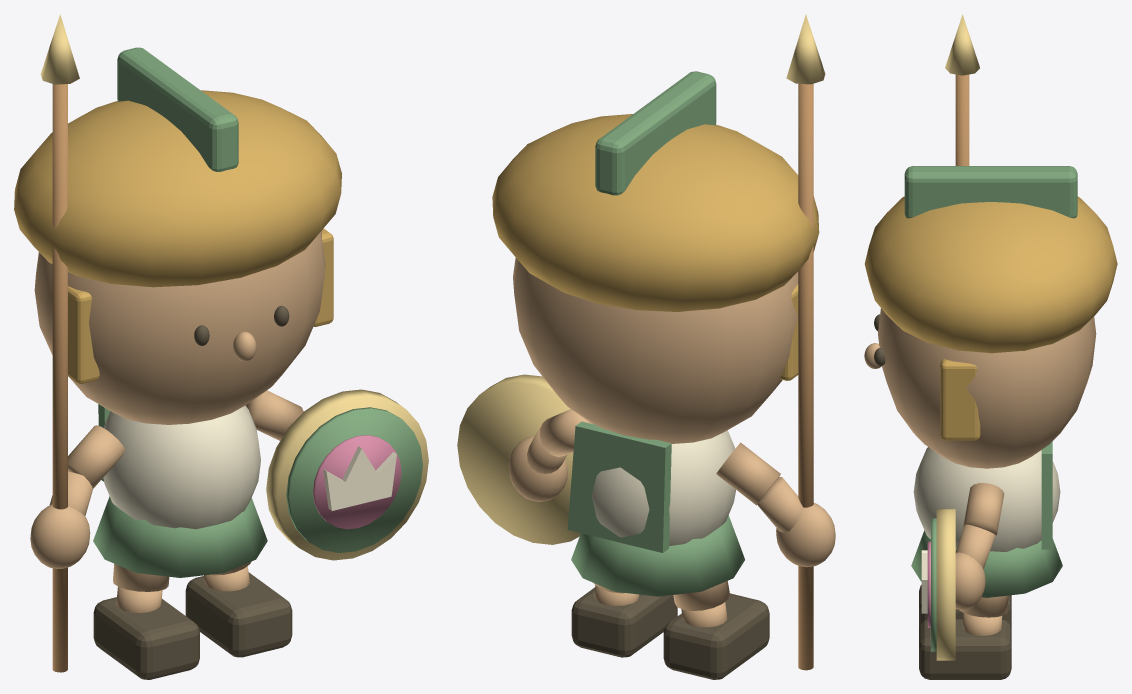
File: bighead.glb
3 views of the same model, side by side, from view 1: azimuth 30°, elevation 25°; view 2: azimuth 150°, elevation 25°; view 3: azimuth 270°, elevation 25° (orthographic). The views are drawn at different scales.
Parts seen in each view (by area): view 1: helmet.001, head.001, body.001, shield_face.001, skirt.001, spear.001, crest.001, foot.-1.001, foot.002, shield.001, badge.001, hand.-1.001 (+10 smaller); view 2: helmet.001, head.001, shield.001, body.001, skirt.001, cape.001, spear.001, crest.001, foot.-1.001, foot.002, hand.-1.001, upper_arm.-1.001 (+9 smaller); view 3: helmet.001, head.001, body.001, crest.001, foot.002, skirt.001, shield.001, cheek.002, upper_arm.002, hand.002, spear.001, cape.001 (+7 smaller).
Boxes of the visible parts, x1,y1,x2,y2 form: helmet.001: (14, 90, 341, 287); head.001: (34, 230, 325, 424); body.001: (103, 405, 260, 529); shield_face.001: (286, 407, 422, 552); skirt.001: (93, 496, 267, 577); spear.001: (52, 84, 67, 672); crest.001: (117, 47, 238, 171); foot.-1.001: (93, 597, 199, 679); foot.002: (185, 572, 292, 657); shield.001: (266, 389, 428, 560); badge.001: (313, 435, 401, 529); hand.-1.001: (30, 504, 90, 568); helmet.001: (492, 114, 819, 311); head.001: (513, 257, 798, 443); shield.001: (457, 374, 580, 544); body.001: (591, 430, 735, 545); skirt.001: (571, 515, 744, 596); cape.001: (567, 421, 671, 552); spear.001: (798, 83, 813, 670); crest.001: (595, 71, 716, 195); foot.-1.001: (663, 593, 769, 679); foot.002: (571, 587, 677, 657); hand.-1.001: (776, 503, 835, 567); upper_arm.-1.001: (716, 442, 780, 505); helmet.001: (864, 196, 1117, 353); head.001: (878, 308, 1096, 468); body.001: (913, 447, 1060, 551); crest.001: (904, 166, 1077, 218); foot.002: (919, 619, 1011, 679); skirt.001: (911, 530, 1062, 597); shield.001: (936, 509, 955, 660); cheek.002: (940, 359, 980, 440); upper_arm.002: (963, 483, 1004, 535); hand.002: (955, 552, 985, 609); spear.001: (955, 74, 969, 165); cape.001: (1041, 441, 1052, 549).
Size of the model in its own units: 1.41 by 2.35 by 0.9321.
